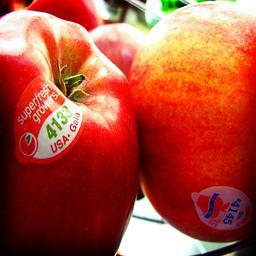apple: (1, 9, 141, 256), (130, 1, 256, 243)
